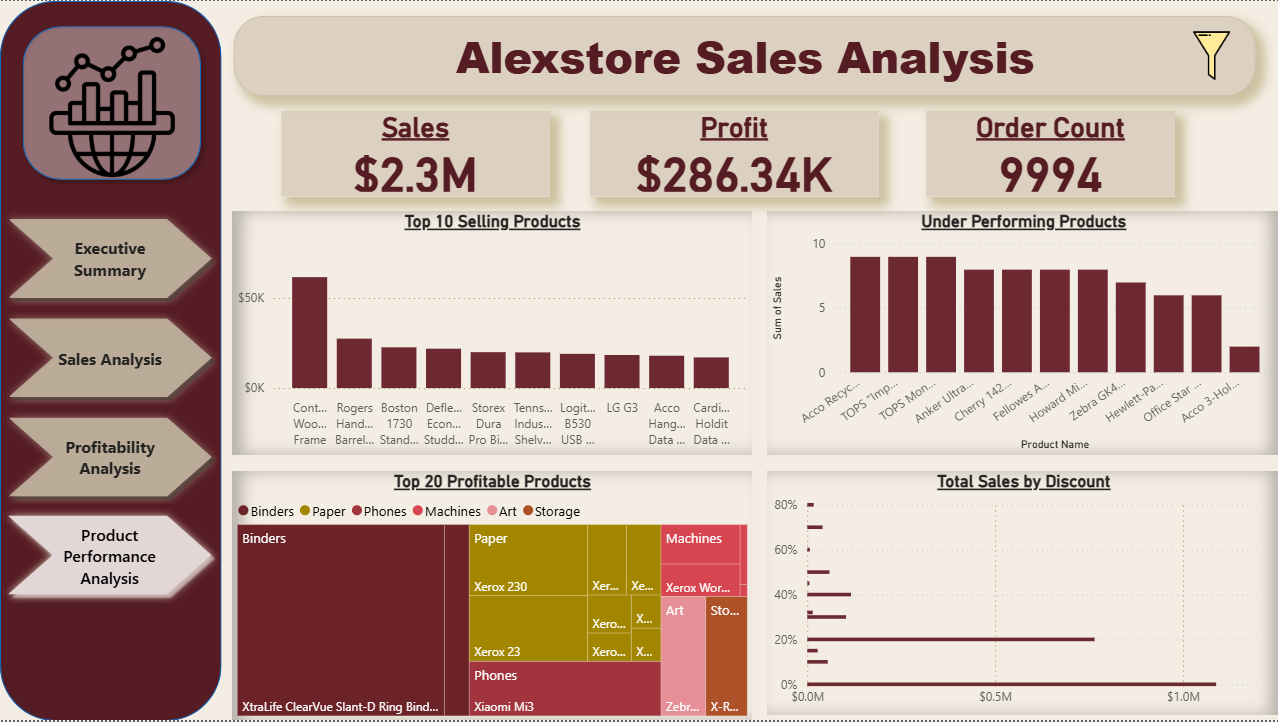

This screenshot's page, from the dashboard's own definition file:
{"tool":"powerbi","page":{"name":"Product Performance Analysis","canvas":[1280,720],"ordinal":3},"visuals":[{"type":"shape","box":[0,0,221.4,720],"z":0},{"type":"textbox","title":"Alexstore Sales Analysis","box":[233.3,15,1021.7,80],"z":2000},{"type":"card","title":"Order Count","fields":{"Values":["measure_table.order_count"]},"box":[925.7,110,248.6,85.7],"z":3000},{"type":"card","title":"Sales","fields":{"Values":["measure_table.Total Sales"]},"box":[281.4,110,268.6,85.7],"z":5000},{"type":"card","title":"Profit","fields":{"Values":["measure_table.Total Profit"]},"box":[590,110,288.6,85.7],"z":7000},{"type":"columnChart","title":"Top 10 Selling Products","fields":{"Y":["measure_table.Total Sales"],"Category":["product_table (2).Product Name"]},"box":[232.9,210,520,244.3],"z":9000},{"type":"columnChart","title":"Under Performing Products","fields":{"Category":["product_table (2).Product Name"],"Y":["Sum(sales_table.Sales)"]},"box":[767.1,210,512.9,244.3],"z":11000},{"type":"treemap","title":"Top 20 Profitable Products","fields":{"Values":["measure_table.Total Profit"],"Group":["product_table (2).Sub-Category"],"Details":["product_table (2).Product Name"]},"box":[232.9,470,520,250],"z":13000},{"type":"clusteredBarChart","title":"Total Sales by Discount","fields":{"Category":["sales_table.Discount"],"Y":["measure_table.Total Sales"]},"box":[767.1,470,512.9,244.3],"z":14000},{"type":"pageNavigator","box":[0,209.8,220.9,396],"z":15000},{"type":"shape","box":[13.7,16.5,196.2,171.5],"z":16000},{"type":"image","box":[22,23.3,179.8,164.7],"z":17000},{"type":"image","title":"filter icon","box":[1181.5,24.7,60.4,59],"z":17125},{"type":"actionButton","title":"Filter pane Button","box":[1182.1,25.7,60,58.6],"z":17250}]}

Visuals, with their boxes in screenshot pixels (x1, y1, x2, y2), scaled from the page's 1280x720 canvas onto the 1278x722 screenshot:
shape: 0:0:221:721
"Alexstore Sales Analysis" textbox: 233:15:1253:95
"Order Count" card: 924:110:1172:196
"Sales" card: 281:110:549:196
"Profit" card: 589:110:877:196
"Top 10 Selling Products" columnChart: 233:211:752:456
"Under Performing Products" columnChart: 766:211:1277:456
"Top 20 Profitable Products" treemap: 233:471:752:721
"Total Sales by Discount" clusteredBarChart: 766:471:1277:716
pageNavigator: 0:210:221:607
shape: 14:17:210:189
image: 22:23:201:189
"filter icon" image: 1180:25:1240:84
"Filter pane Button" actionButton: 1180:26:1240:85
